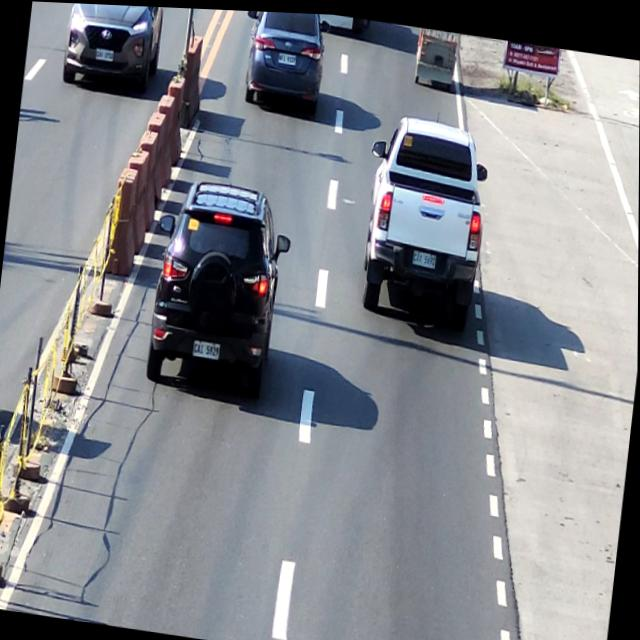Car: (141, 173, 296, 399), (354, 107, 493, 329), (236, 8, 333, 117), (59, 2, 166, 94)
License-Plate: (192, 338, 221, 358), (412, 246, 438, 266), (277, 49, 297, 63), (95, 47, 114, 60)
